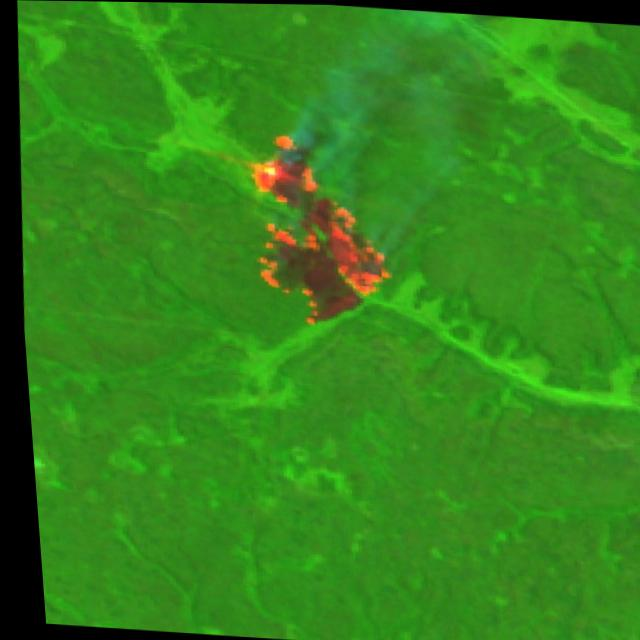fire: (228, 126, 401, 332)
